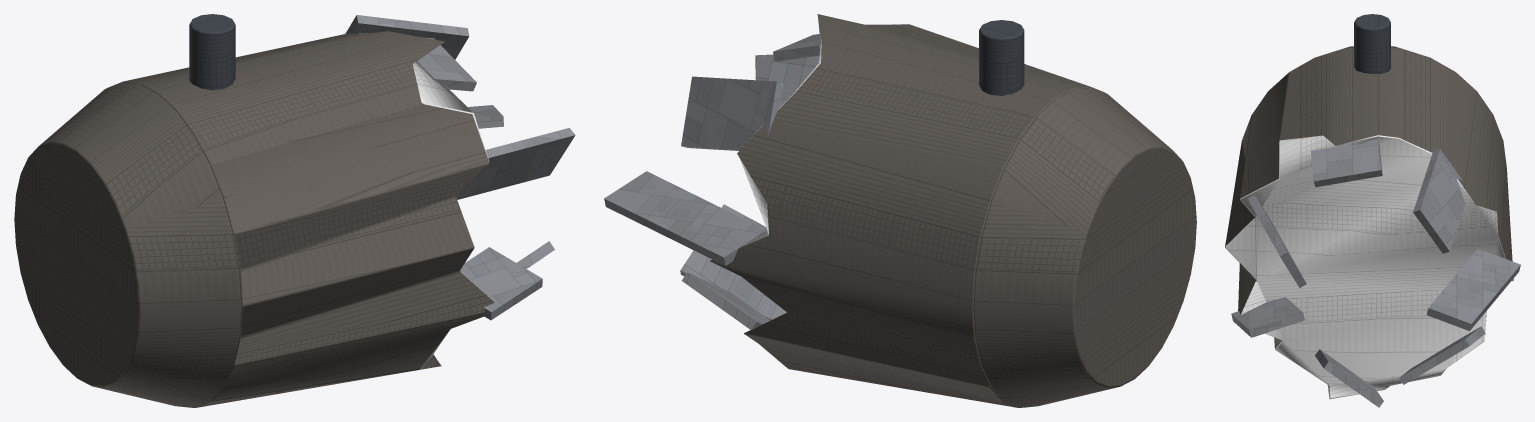
The model's file is aft_pressure_tank.glb.
3 renders of one model, left to right at view 1: azimuth 30°, elevation 25°; view 2: azimuth 150°, elevation 25°; view 3: azimuth 270°, elevation 25°, orthographic. The views are drawn at different scales.
Visible parts, largest first — view 1: TankBody, TankDome0, tankPetals_tear0, TankValve, tankPetals_tear1, tankPetals_tear5, tankPetals_tear6, tankPetals_tear4; view 2: TankBody, TankDome0, tankPetals_tear4, tankPetals_tear5, TankValve, tankPetals_tear2, tankPetals_tear0, tankPetals_tear3, tankPetals_tear6; view 3: TankBody, tankPetals_tear4, tankPetals_tear5, tankPetals_tear6, TankValve, tankPetals_tear1, tankPetals_tear2, tankPetals_tear3, tankPetals_tear0.
Part boxes in pixels (x1,y1,x2,y2): TankBody: (108, 31, 494, 407); TankDome0: (14, 82, 241, 407); tankPetals_tear0: (456, 128, 575, 199); TankValve: (189, 14, 235, 90); tankPetals_tear1: (460, 247, 542, 320); tankPetals_tear5: (345, 15, 469, 59); tankPetals_tear6: (417, 37, 476, 91); tankPetals_tear4: (468, 105, 503, 128); TankBody: (710, 14, 1105, 407); TankDome0: (973, 87, 1196, 407); tankPetals_tear4: (604, 171, 767, 265); tankPetals_tear5: (681, 76, 783, 150); TankValve: (979, 20, 1024, 95); tankPetals_tear2: (680, 204, 786, 320); tankPetals_tear0: (755, 54, 819, 106); tankPetals_tear3: (682, 272, 769, 330); tankPetals_tear6: (773, 34, 820, 61); TankBody: (1225, 48, 1513, 399); tankPetals_tear4: (1426, 248, 1520, 330); tankPetals_tear5: (1413, 149, 1465, 253); tankPetals_tear6: (1310, 139, 1382, 187); TankValve: (1354, 14, 1390, 73); tankPetals_tear1: (1231, 297, 1304, 337); tankPetals_tear2: (1315, 349, 1383, 407); tankPetals_tear3: (1399, 326, 1485, 384); tankPetals_tear0: (1247, 195, 1306, 287).
Bounding box in the file's own units: 17 × 12.8 × 11.36.
Materials: 4 (4 with a texture image).
